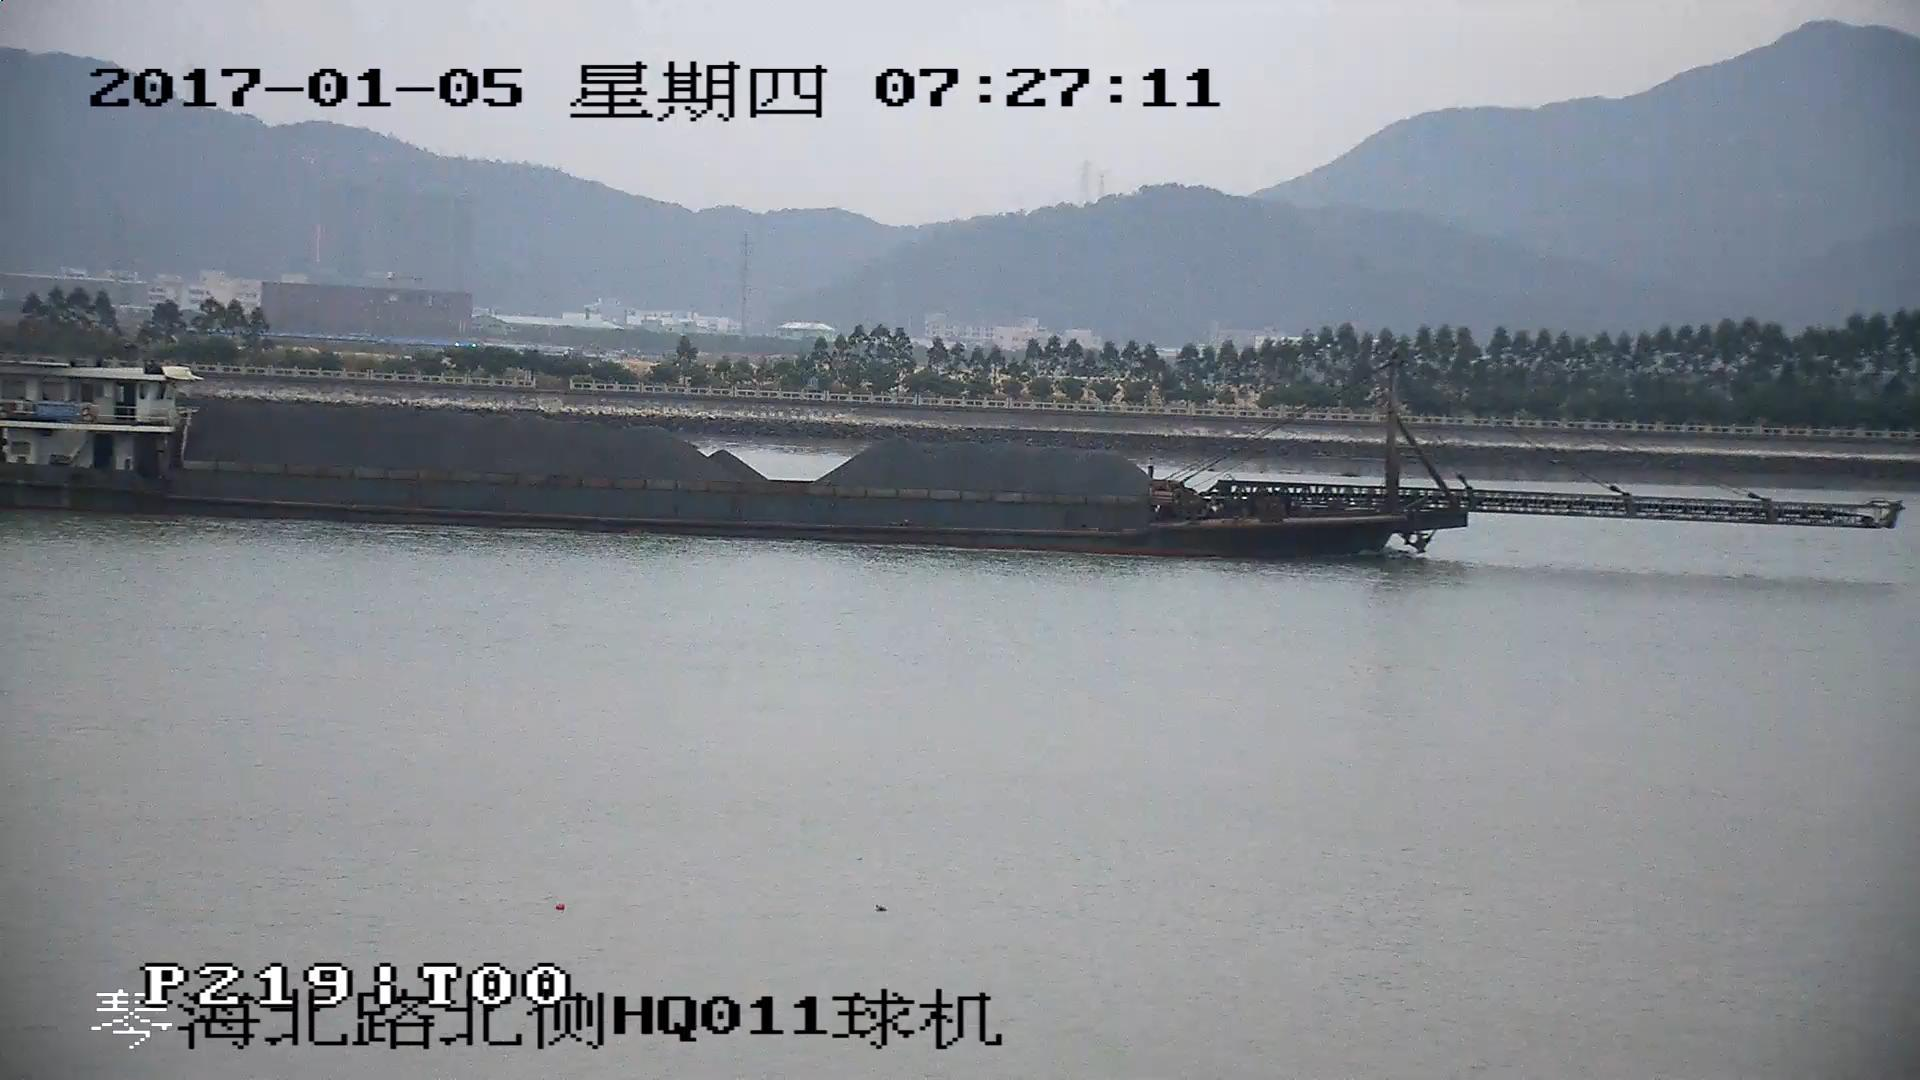Ship: (3, 372, 1898, 553)
